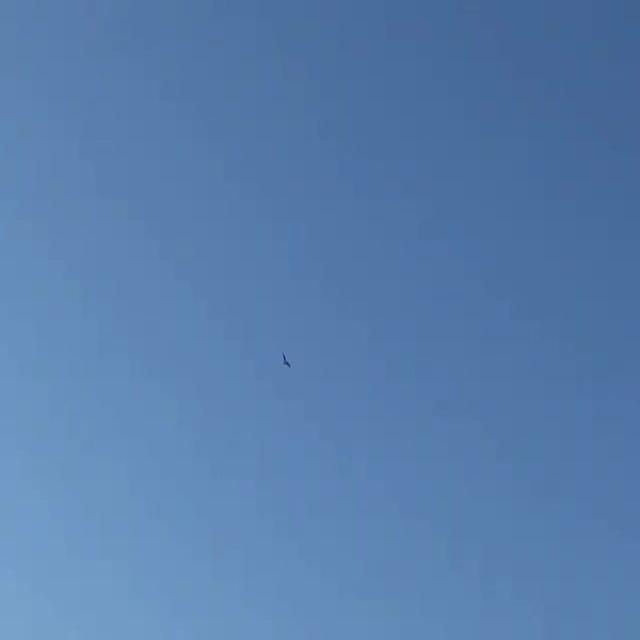bird: (278, 347, 295, 372)
